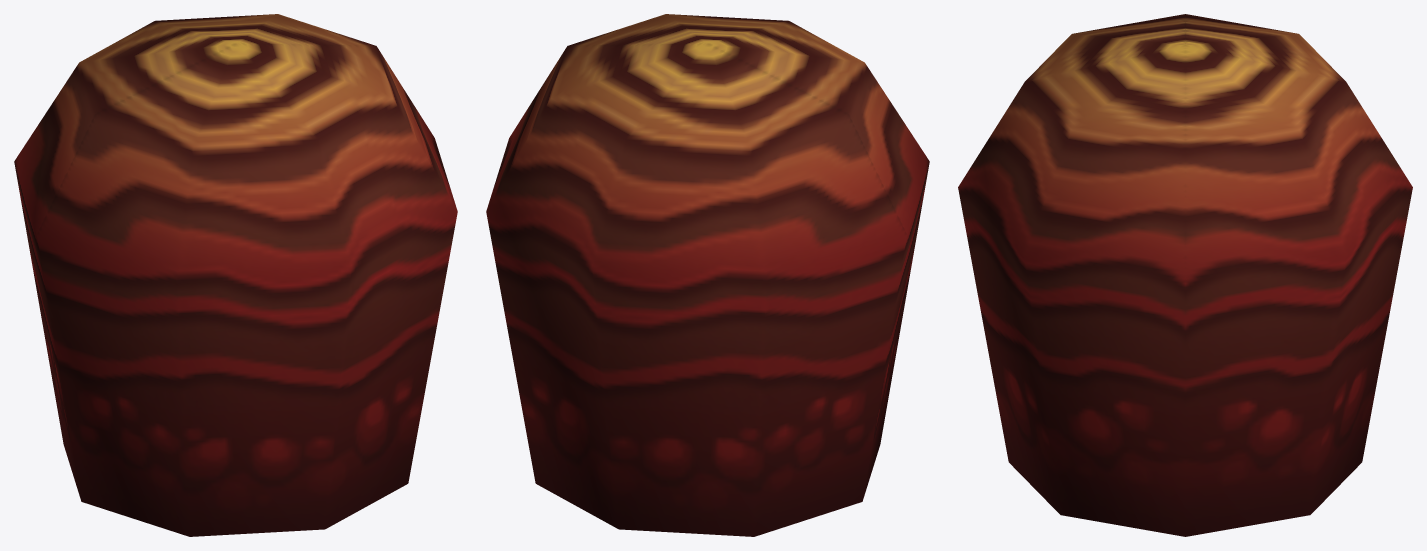
Rendered from Coral_29b.FBX.
3 views of the same model, side by side, from view 1: azimuth 30°, elevation 25°; view 2: azimuth 150°, elevation 25°; view 3: azimuth 270°, elevation 25° (orthographic).
Visible parts, largest first — view 1: Coral_29b; view 2: Coral_29b; view 3: Coral_29b.
Part boxes in pixels (<box>): Coral_29b: <box>14,14,457,536</box>; Coral_29b: <box>486,14,929,536</box>; Coral_29b: <box>958,14,1412,536</box>.
Size of the model in its own units: 10.78 by 10.88 by 10.78.
